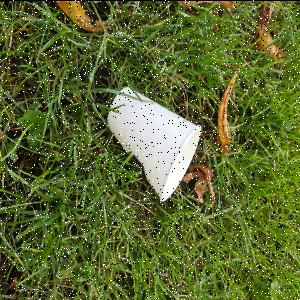Cup: (107, 84, 205, 204)
